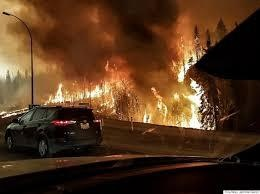fire: (140, 45, 211, 129), (46, 82, 66, 104)
